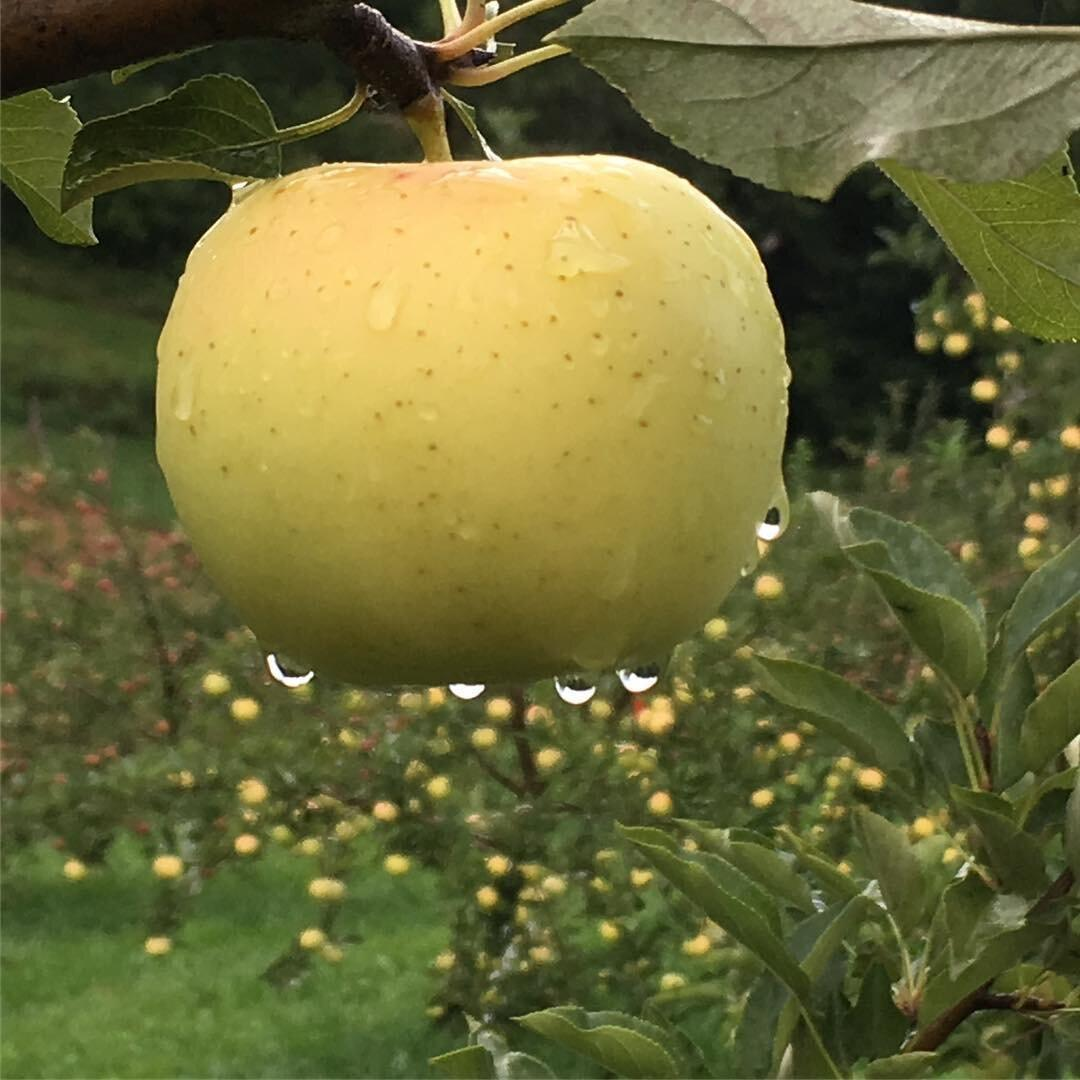apple: (156, 155, 791, 689)
